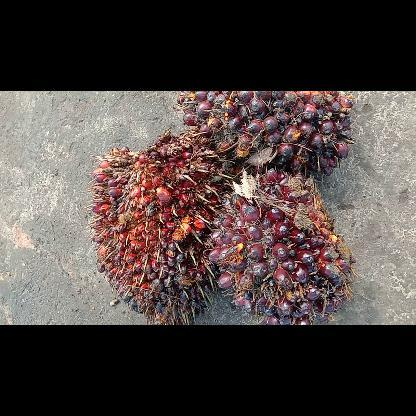Kurang masak: (205, 168, 355, 324), (177, 90, 353, 176)
TBS masak: (88, 130, 218, 324)
